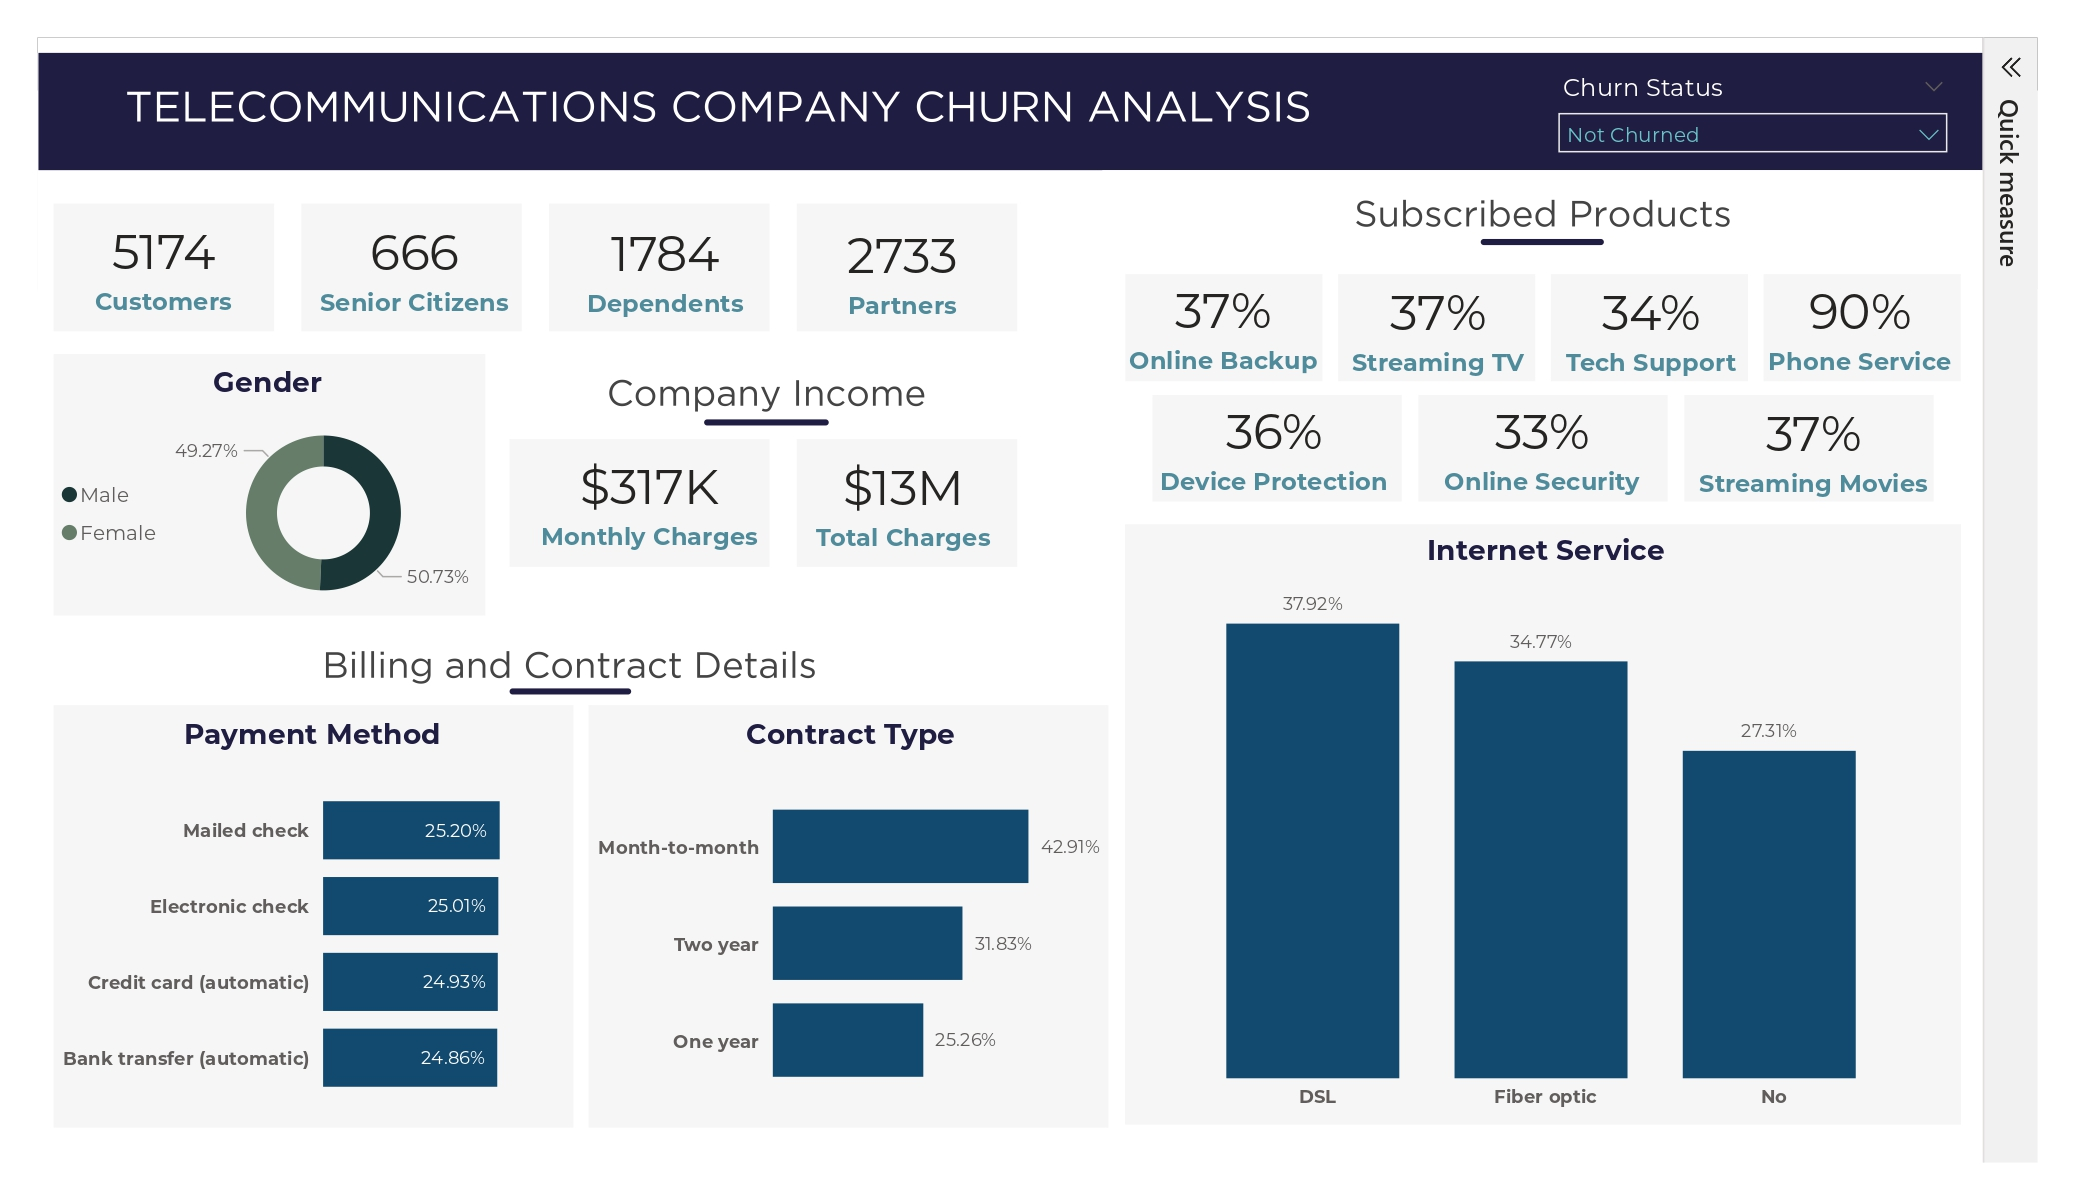

Layout of this report page (visuals, bound fields, positions):
{"tool":"powerbi","page":{"name":"Page 1","canvas":[1280,720],"ordinal":0},"visuals":[{"type":"card","fields":{"Values":["CountNonNull(Table1.customerID)"]},"box":[11.9,98.2,142.9,83.3],"z":0},{"type":"card","fields":{"Values":["Table1.Count of SeniorCitizen for true"]},"box":[172.9,97.8,150.2,85],"z":1000},{"type":"donutChart","title":"Gender","fields":{"Y":["CountNonNull(Table1.gender)"],"Category":["Table1.gender"]},"box":[9.9,198.4,283.5,178.6],"z":2000},{"type":"card","fields":{"Values":["Table1.%OnlineBackup"]},"box":[712.9,141.7,134.6,73.7],"z":4000},{"type":"card","fields":{"Values":["Table1.%OnlineSecurity"]},"box":[928.3,219.7,153.1,76.5],"z":5000},{"type":"card","fields":{"Values":["Table1.%StreamingTV"]},"box":[857.3,141.4,128,76],"z":6000},{"type":"card","fields":{"Values":["Table1.%DeviceProtection"]},"box":[759.7,219.7,161.6,76.5],"z":7000},{"type":"card","fields":{"Values":["Table1.%StreamingMovies"]},"box":[1082.8,221.1,165.8,76.5],"z":8000},{"type":"card","fields":{"Values":["Table1.%TechSupport"]},"box":[997.2,141.4,128,75.9],"z":9000},{"type":"card","fields":{"Values":["Table1.%PhoneService"]},"box":[1131,141.7,136.1,75.1],"z":10000},{"type":"card","fields":{"Values":["Table1.Count of Partner for Yes"]},"box":[496.1,100.6,146,83.6],"z":11000},{"type":"card","fields":{"Values":["Table1.Count of Dependents for Yes"]},"box":[341.6,99.2,143.1,83.6],"z":12000},{"type":"clusteredColumnChart","title":"Internet Service","fields":{"Category":["Table1.InternetService"],"Y":["Divide(CountNonNull(Table1.InternetService), ScopedEval(CountNonNull(Table1.InternetService), []))"]},"box":[716.5,308.9,550.6,394.7],"z":13000},{"type":"clusteredBarChart","title":"Contract Type","fields":{"Category":["Table1.Contract"],"Y":["CountNonNull(Table1.Contract)"]},"box":[363.3,429.1,344.7,277.5],"z":14000},{"type":"clusteredBarChart","title":"Payment Method","fields":{"Category":["Table1.PaymentMethod"],"Y":["CountNonNull(Table1.PaymentMethod)"]},"box":[10,429.1,341.8,277.5],"z":15000},{"type":"card","fields":{"Values":["Sum(Table1.MonthlyCharges)"]},"box":[321.7,253.7,161.6,80.8],"z":16000},{"type":"card","fields":{"Values":["Sum(Table1.TotalCharges)"]},"box":[497.5,253.7,144.6,82.2],"z":17000},{"type":"slicer","fields":{"Values":["Table1.Churn Status"]},"box":[966,8.9,300.7,64],"z":17001}]}

Visuals, with their boxes on the page's 1280x720 design canvas (x1, y1, x2, y2). These are canvas units, not pixel positions in the 2075x1200 screenshot, which may show the page scaled, cropped or inside an application window:
card - CountNonNull(Table1.customerID): pyautogui.locateOnScreen(12, 98, 155, 182)
card - Table1.Count of SeniorCitizen for true: pyautogui.locateOnScreen(173, 98, 323, 183)
"Gender" donutChart: pyautogui.locateOnScreen(10, 198, 293, 377)
card - Table1.%OnlineBackup: pyautogui.locateOnScreen(713, 142, 848, 215)
card - Table1.%OnlineSecurity: pyautogui.locateOnScreen(928, 220, 1081, 296)
card - Table1.%StreamingTV: pyautogui.locateOnScreen(857, 141, 985, 217)
card - Table1.%DeviceProtection: pyautogui.locateOnScreen(760, 220, 921, 296)
card - Table1.%StreamingMovies: pyautogui.locateOnScreen(1083, 221, 1249, 298)
card - Table1.%TechSupport: pyautogui.locateOnScreen(997, 141, 1125, 217)
card - Table1.%PhoneService: pyautogui.locateOnScreen(1131, 142, 1267, 217)
card - Table1.Count of Partner for Yes: pyautogui.locateOnScreen(496, 101, 642, 184)
card - Table1.Count of Dependents for Yes: pyautogui.locateOnScreen(342, 99, 485, 183)
"Internet Service" clusteredColumnChart: pyautogui.locateOnScreen(716, 309, 1267, 704)
"Contract Type" clusteredBarChart: pyautogui.locateOnScreen(363, 429, 708, 707)
"Payment Method" clusteredBarChart: pyautogui.locateOnScreen(10, 429, 352, 707)
card - Sum(Table1.MonthlyCharges): pyautogui.locateOnScreen(322, 254, 483, 334)
card - Sum(Table1.TotalCharges): pyautogui.locateOnScreen(498, 254, 642, 336)
slicer - Table1.Churn Status: pyautogui.locateOnScreen(966, 9, 1267, 73)
